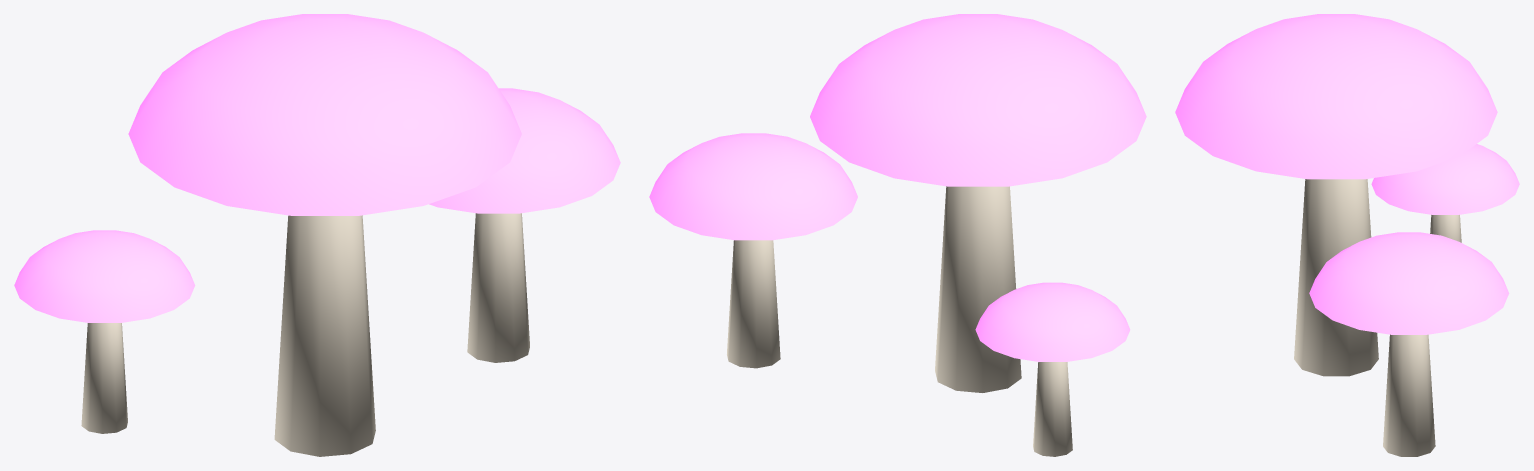
Rendered from les-houba-ruzova.glb.
The picture shows the model from 3 angles, left to right: view 1: azimuth 30°, elevation 25°; view 2: azimuth 150°, elevation 25°; view 3: azimuth 270°, elevation 25°; orthographic projection. The views are drawn at different scales.
Visible parts, largest first — view 1: houba-ruzova; view 2: houba-ruzova; view 3: houba-ruzova.
Boxes of the visible parts, <box> form: houba-ruzova: <box>14,14,620,456</box>; houba-ruzova: <box>649,14,1146,456</box>; houba-ruzova: <box>1175,14,1519,456</box>.
Size of the model in its own units: 0.8628 by 0.5874 by 0.5682.
